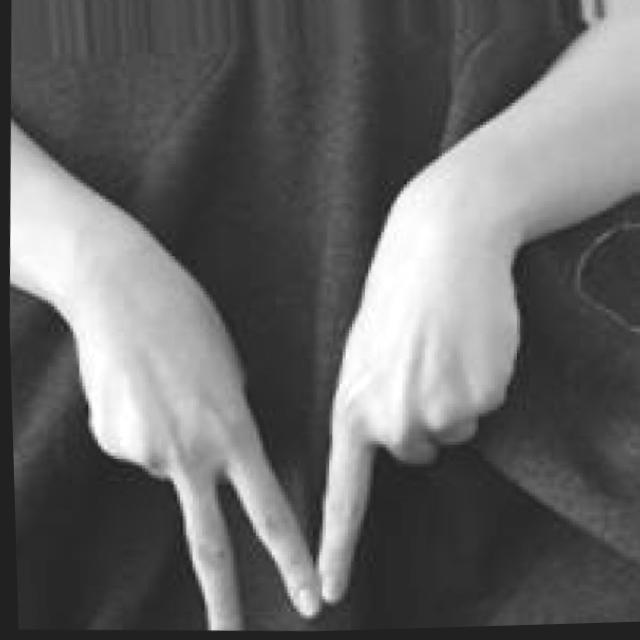N: (60, 213, 542, 638)
